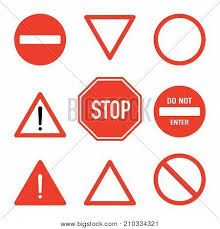stop sign: (78, 76, 143, 141)
